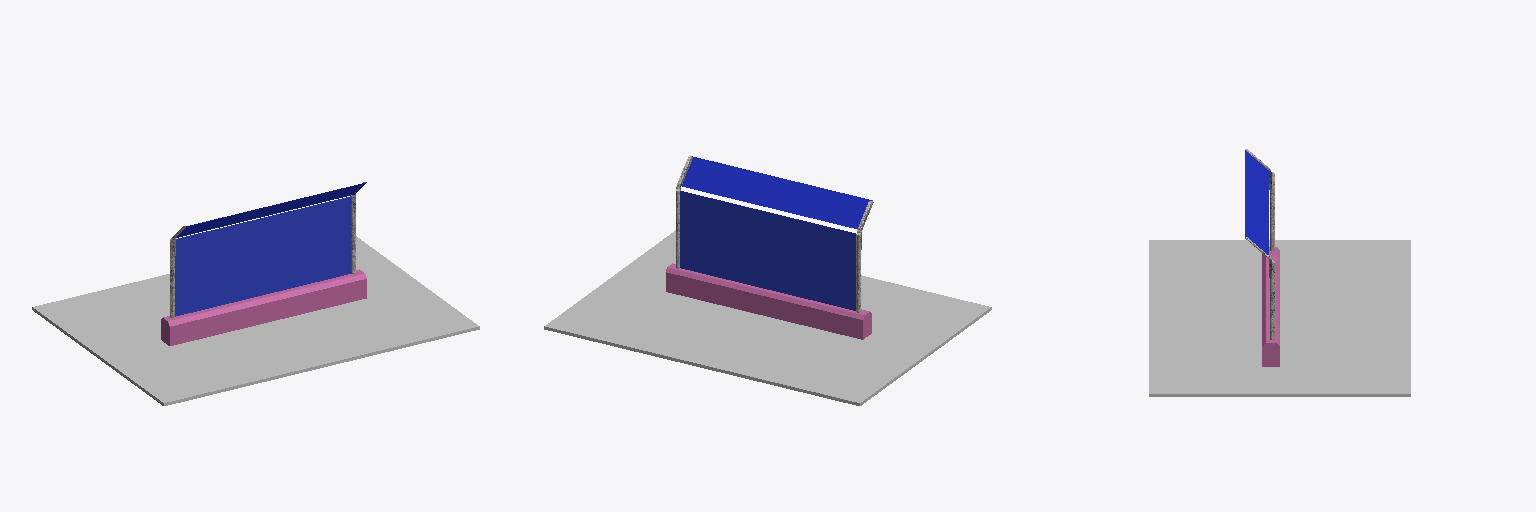
3 renders of one model, left to right at view 1: azimuth 30°, elevation 25°; view 2: azimuth 150°, elevation 25°; view 3: azimuth 270°, elevation 25°, orthographic.
Visible parts, largest first — view 1: Cube, Fence01_Cube.003; view 2: Cube, Fence01_Cube.003; view 3: Cube, Fence01_Cube.003.
Part boxes in pixels (left/top/right/bottom): Cube: left=32, top=236, right=479, bottom=405; Fence01_Cube.003: left=161, top=182, right=366, bottom=345; Cube: left=544, top=230, right=991, bottom=405; Fence01_Cube.003: left=666, top=156, right=873, bottom=339; Cube: left=1149, top=240, right=1410, bottom=396; Fence01_Cube.003: left=1245, top=149, right=1279, bottom=366.
Size of the model in its own units: 5 by 1.93 by 3.6.
6 materials, 1 textured.